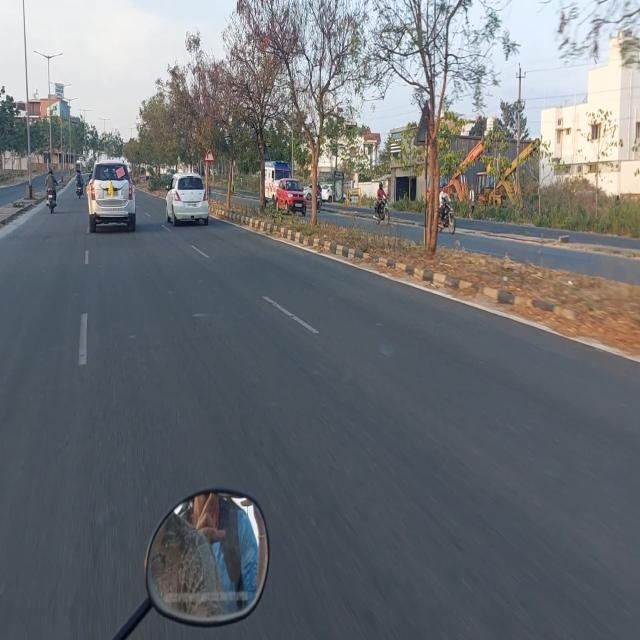bien_nguy_hiem: (203, 142, 215, 164)
